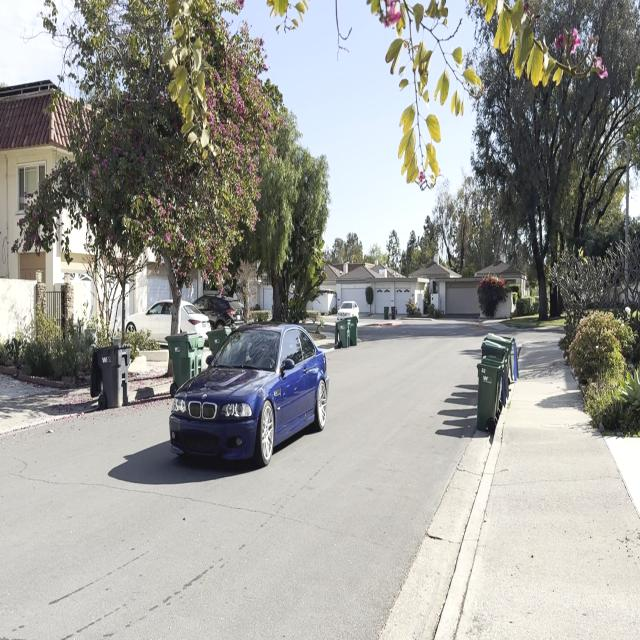Carbeetle: (167, 316, 332, 476)
